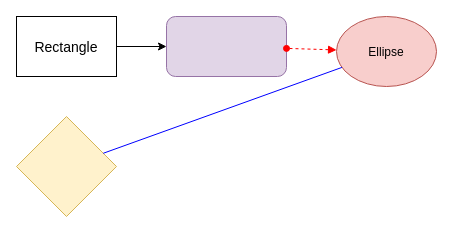
The diagram is 453 pixels wide and 233 high, and some of its shapes have lost their labels. The shapes that lost their labels are listed below. From the top down, each one's centre as x and y in pixels, then its label:
At point 226,46: "Rounded Box".
At point 66,166: "Diamond".
